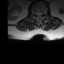CCS_normal: (38, 10, 39, 18)
LFS_normal: (41, 10, 43, 16)
LLS_normal: (39, 11, 41, 17)
RFS_normal: (34, 10, 36, 15)
RLS_normal: (36, 11, 38, 17)
